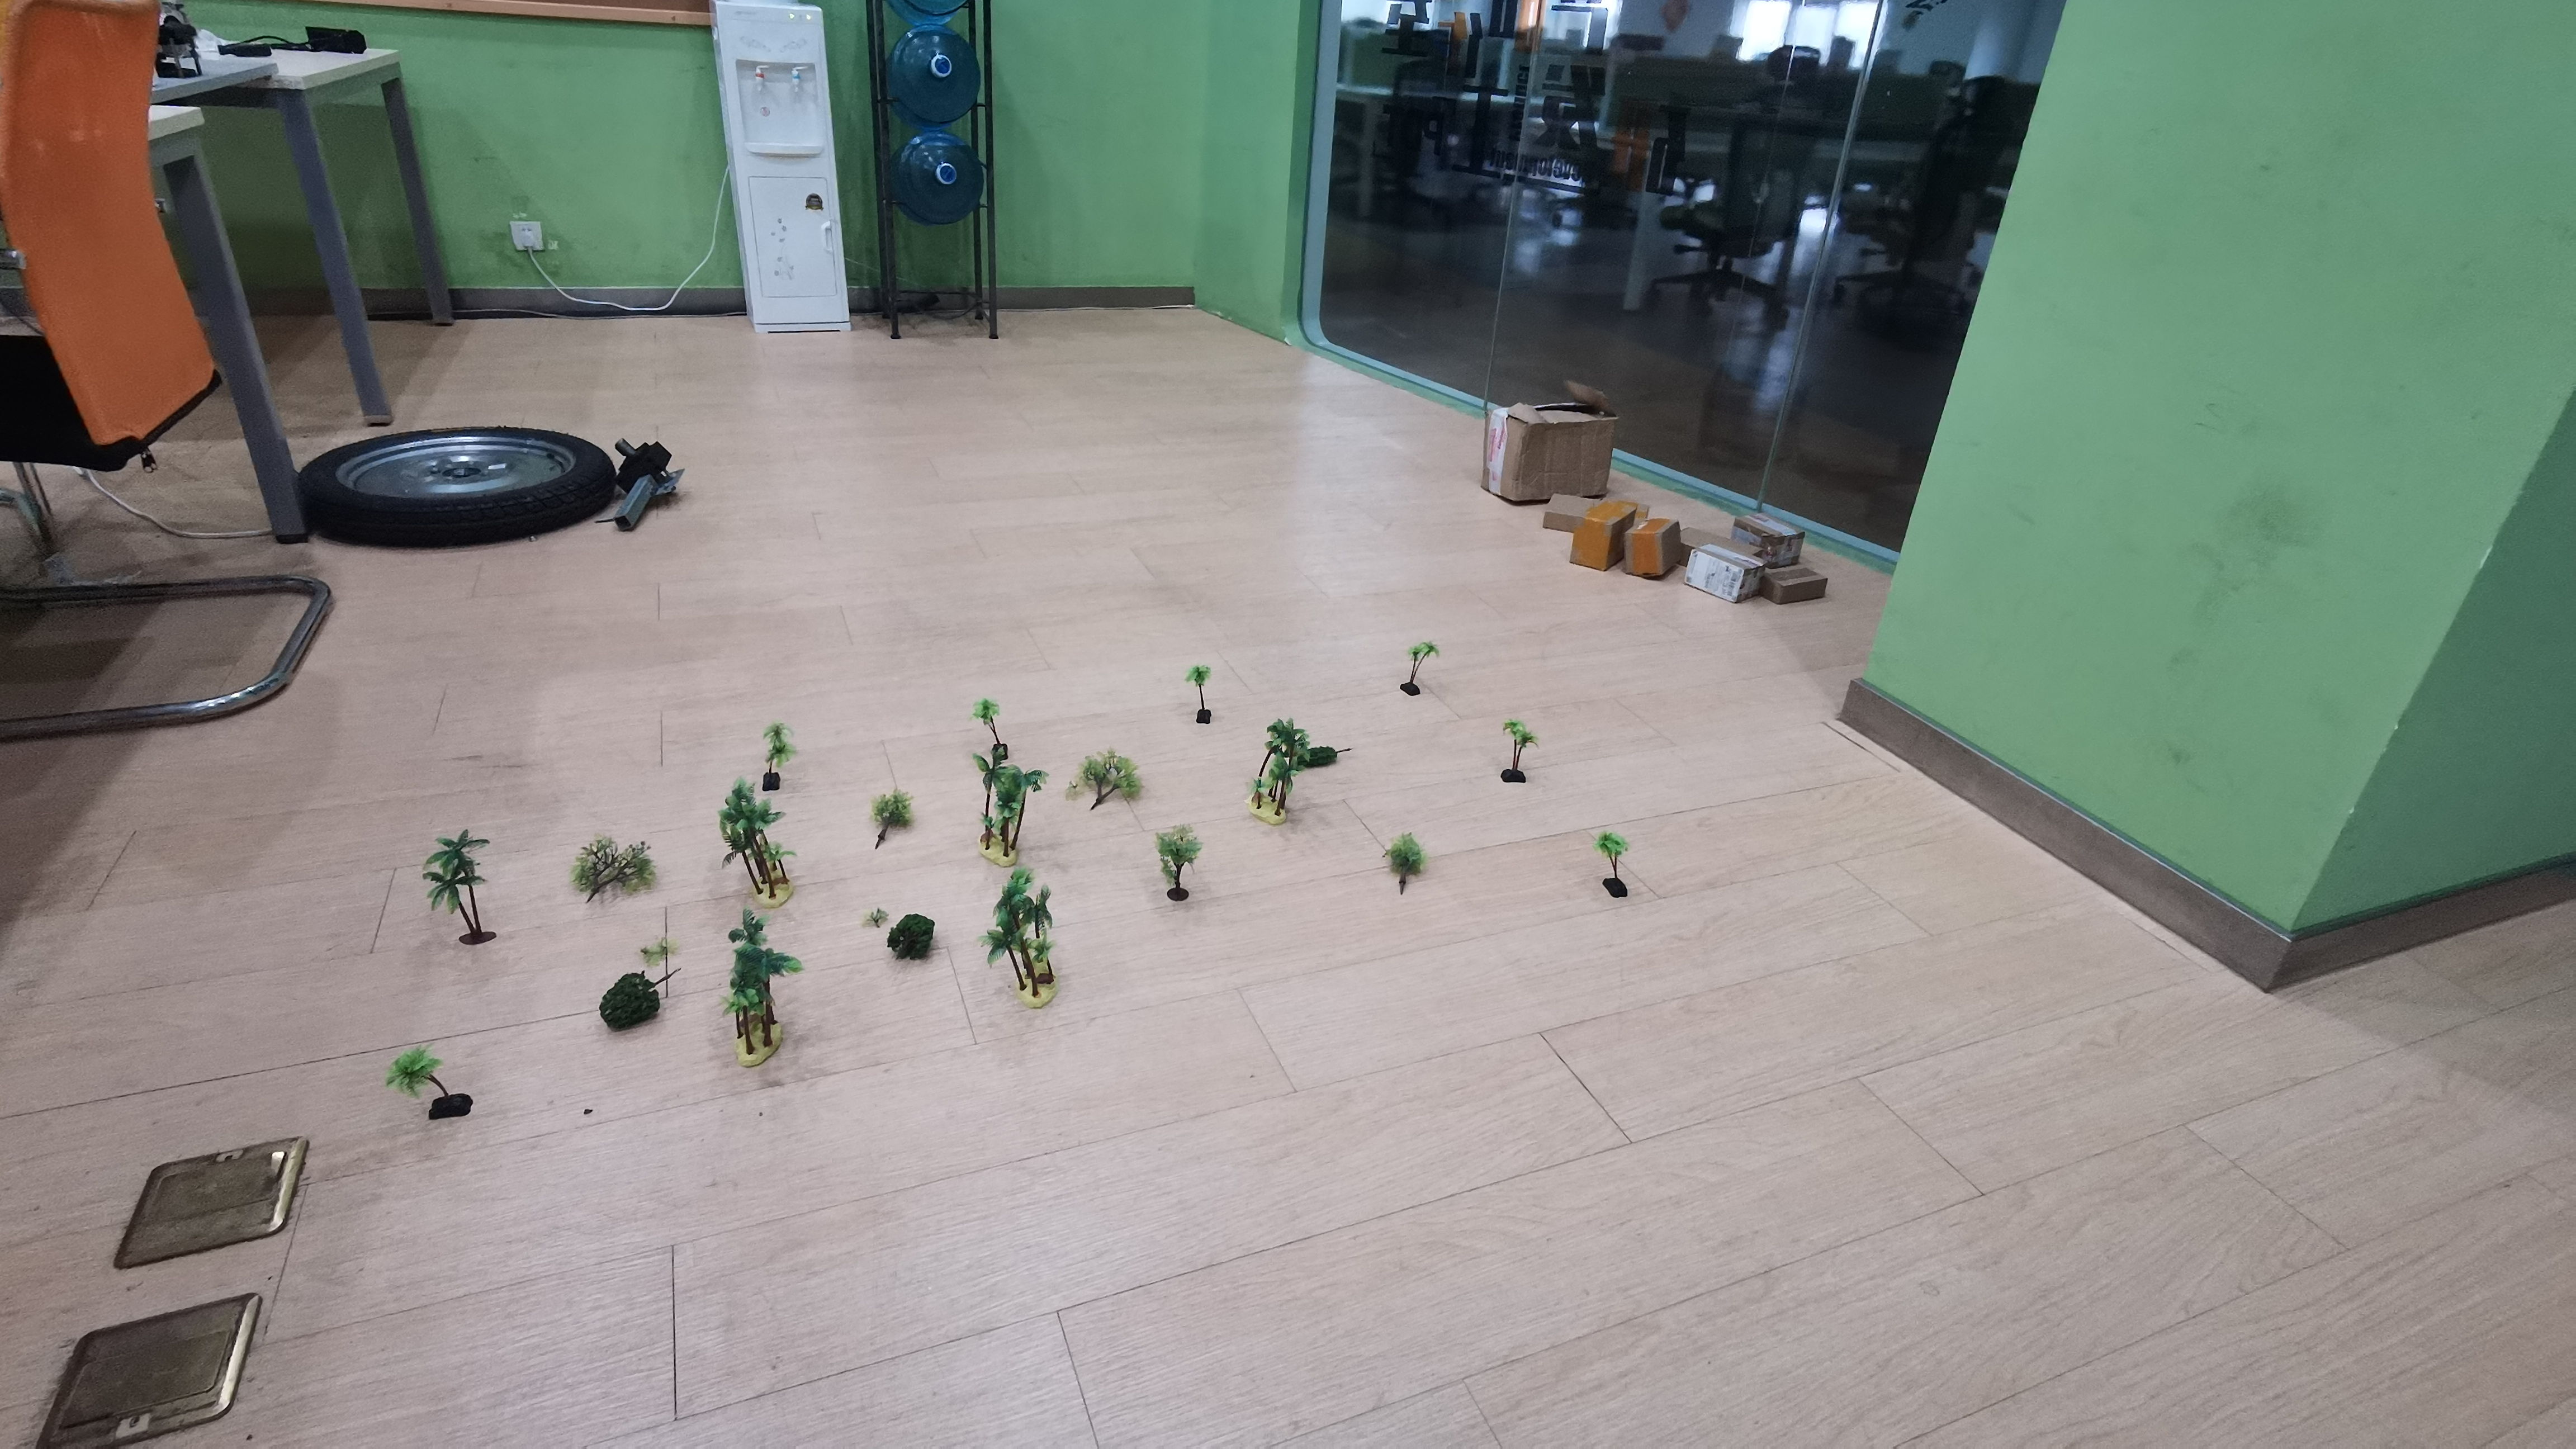corn: (685, 927, 805, 1065), (692, 786, 810, 918), (961, 872, 1072, 1010), (950, 759, 1056, 865), (1238, 715, 1325, 832), (416, 832, 506, 941), (379, 1046, 478, 1127), (732, 711, 800, 798), (1483, 713, 1555, 793), (1391, 632, 1451, 704), (964, 701, 1026, 770), (1592, 832, 1644, 908), (1185, 662, 1230, 734)
